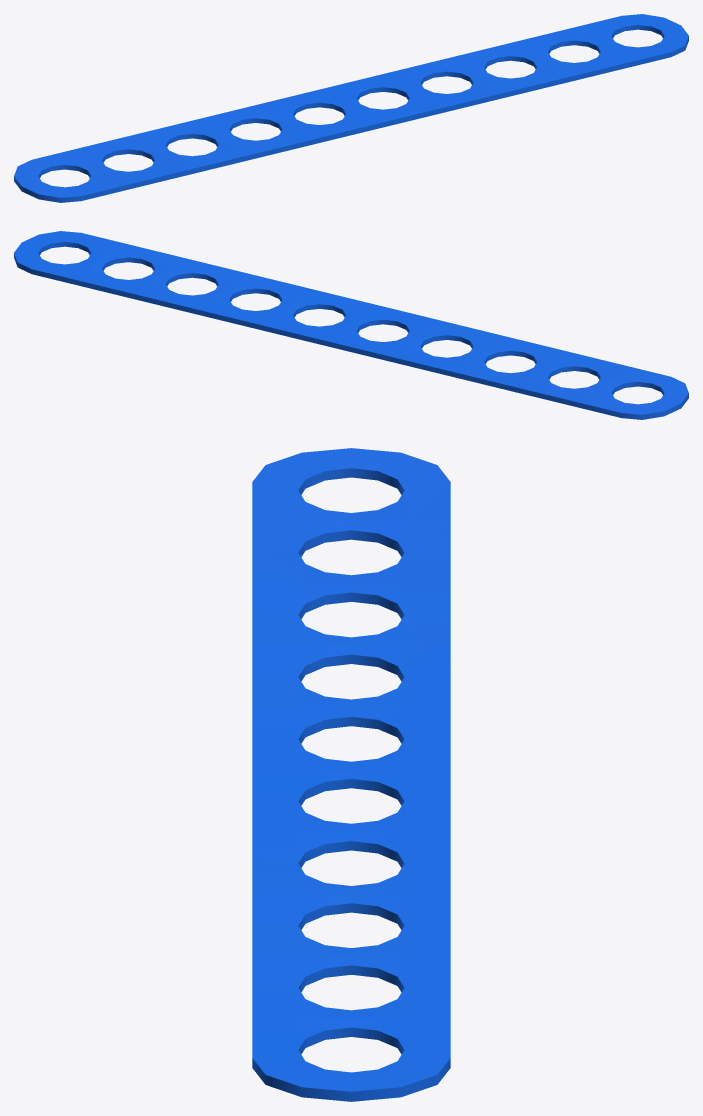
The model's file is TenLongBlue.fbx.
3 renders of one model, top to bottom at view 1: azimuth 30°, elevation 25°; view 2: azimuth 150°, elevation 25°; view 3: azimuth 270°, elevation 25°, orthographic. The views are drawn at different scales.
Parts seen in each view (by area): view 1: Blue10; view 2: Blue10; view 3: Blue10.
Part boxes in pixels (bbox=[...]): Blue10: bbox=[14, 14, 688, 202]; Blue10: bbox=[14, 231, 688, 419]; Blue10: bbox=[252, 448, 450, 1101].
Bounding box in the file's own units: 26.47 × 0.1942 × 3.45.
